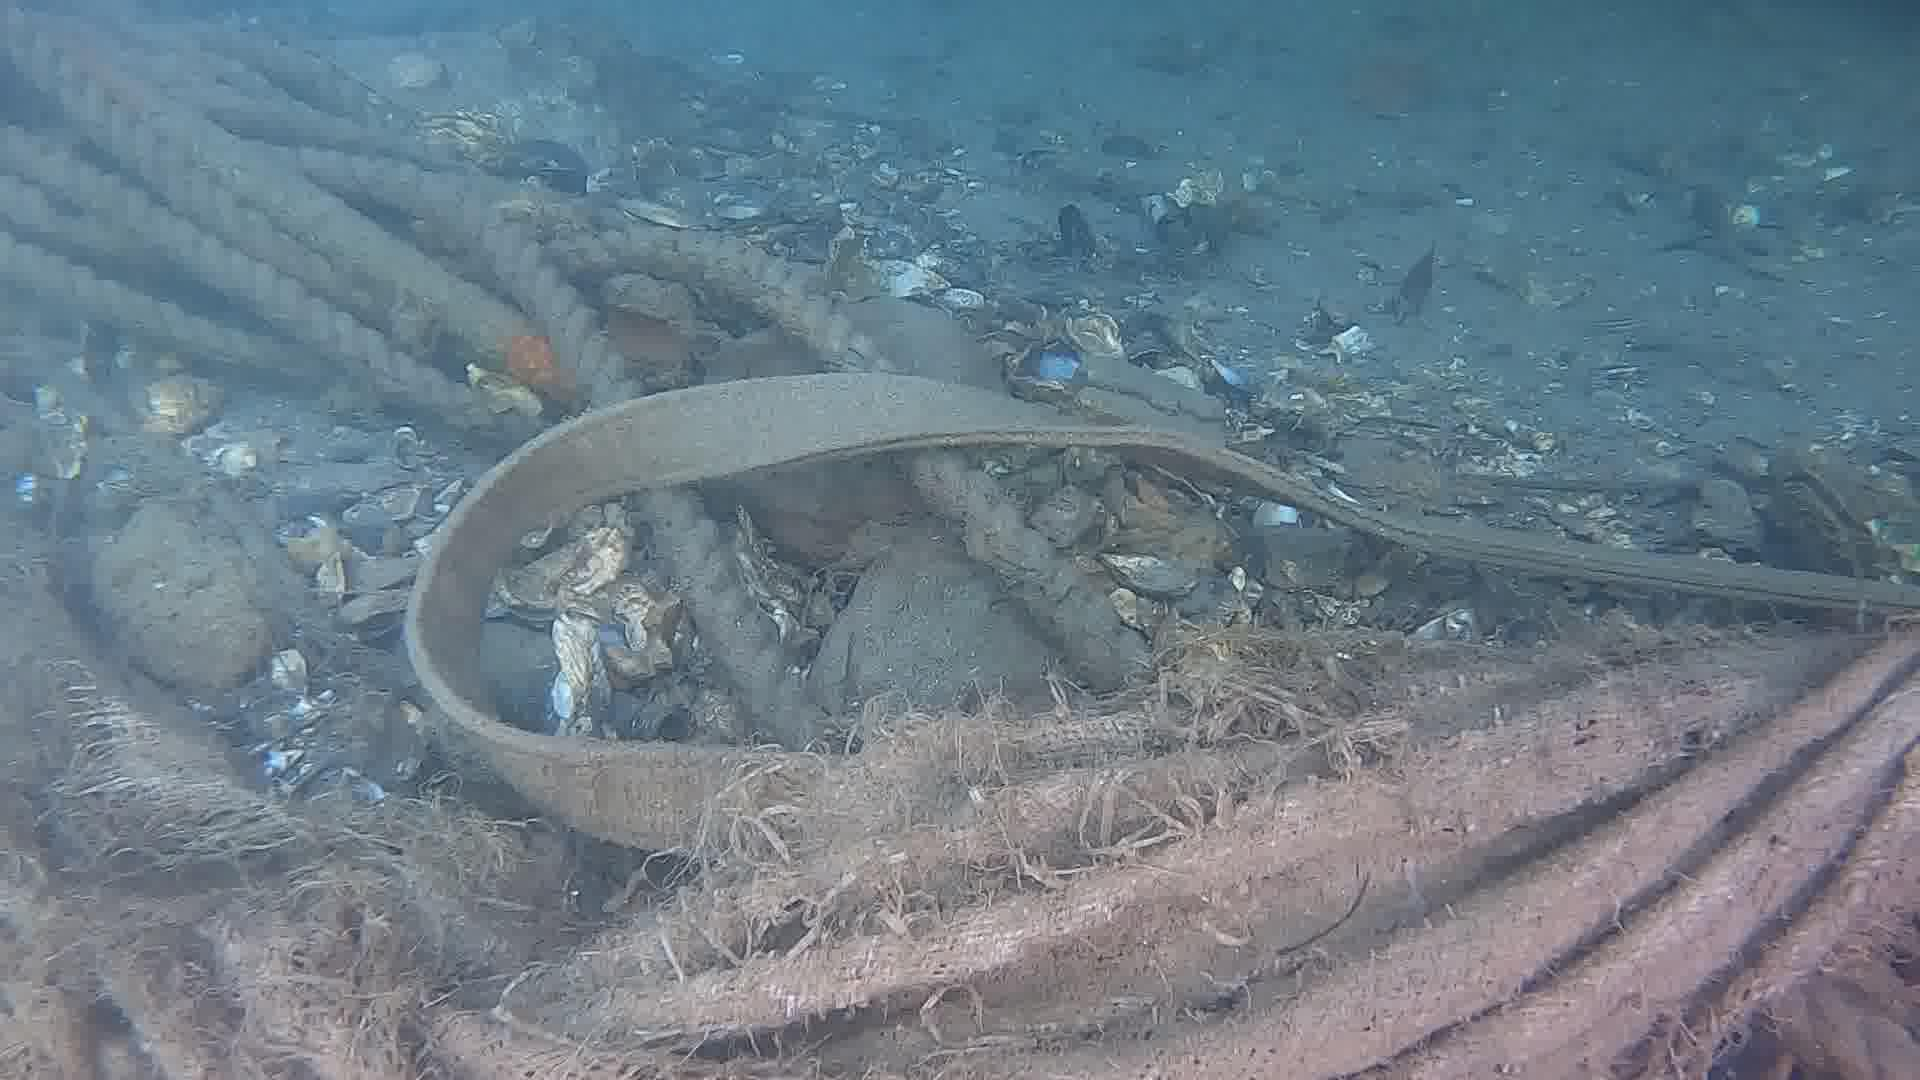bundle of ropes: (0, 0, 1153, 752)
